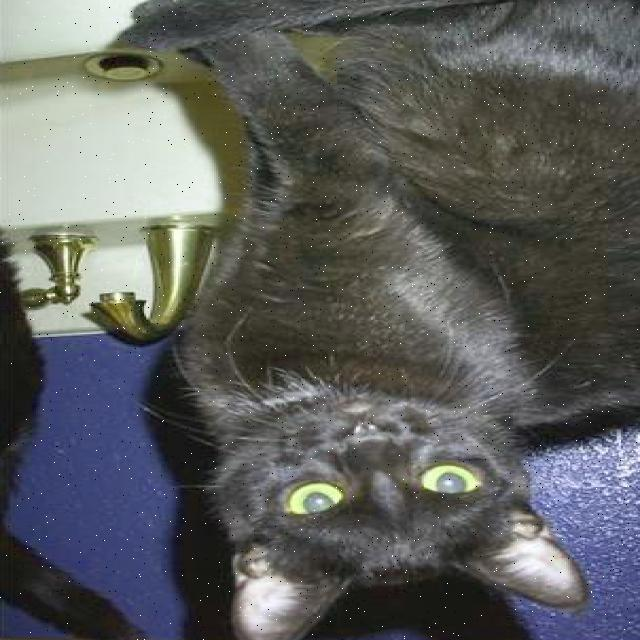Cat: (202, 385, 578, 640)
